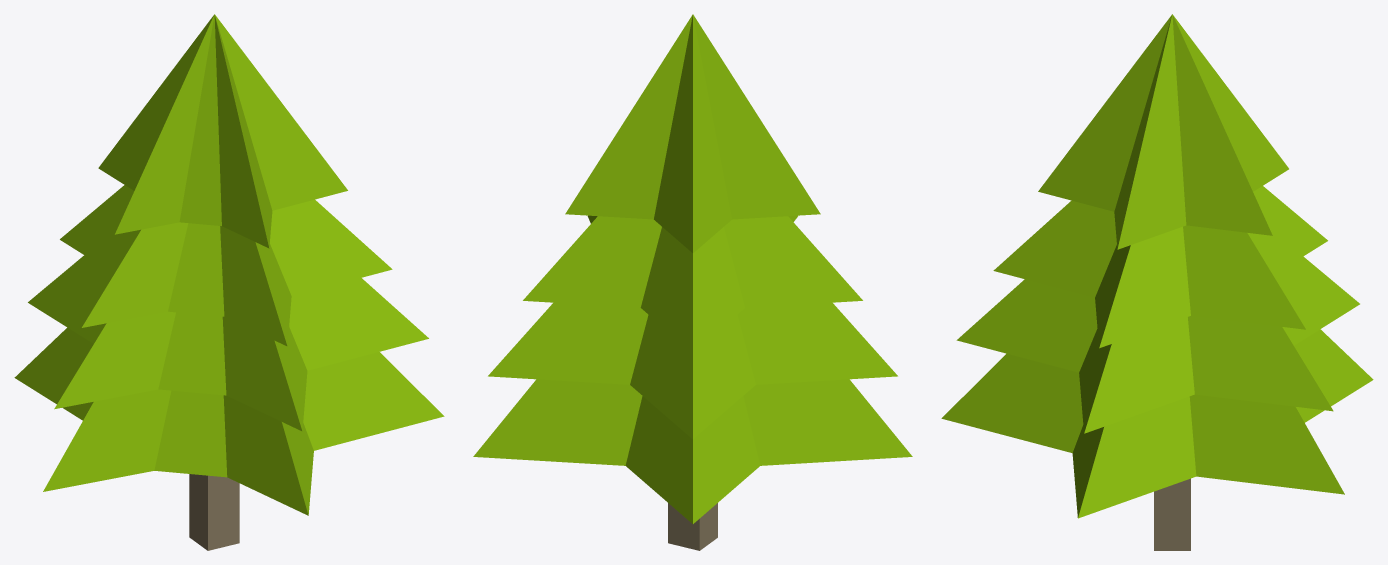
File: tree_pine_star_2.fbx
The picture shows the model from 3 angles, left to right: view 1: azimuth 30°, elevation 25°; view 2: azimuth 150°, elevation 25°; view 3: azimuth 270°, elevation 25°; orthographic projection.
Parts seen in each view (by area): view 1: tree_pine_star_2; view 2: tree_pine_star_2; view 3: tree_pine_star_2.
Boxes of the visible parts, left/top/right/bottom form: tree_pine_star_2: left=14, top=14, right=444, bottom=550; tree_pine_star_2: left=473, top=14, right=912, bottom=550; tree_pine_star_2: left=941, top=14, right=1373, bottom=550.
Bounding box in the file's own units: 146 × 194 × 144.
